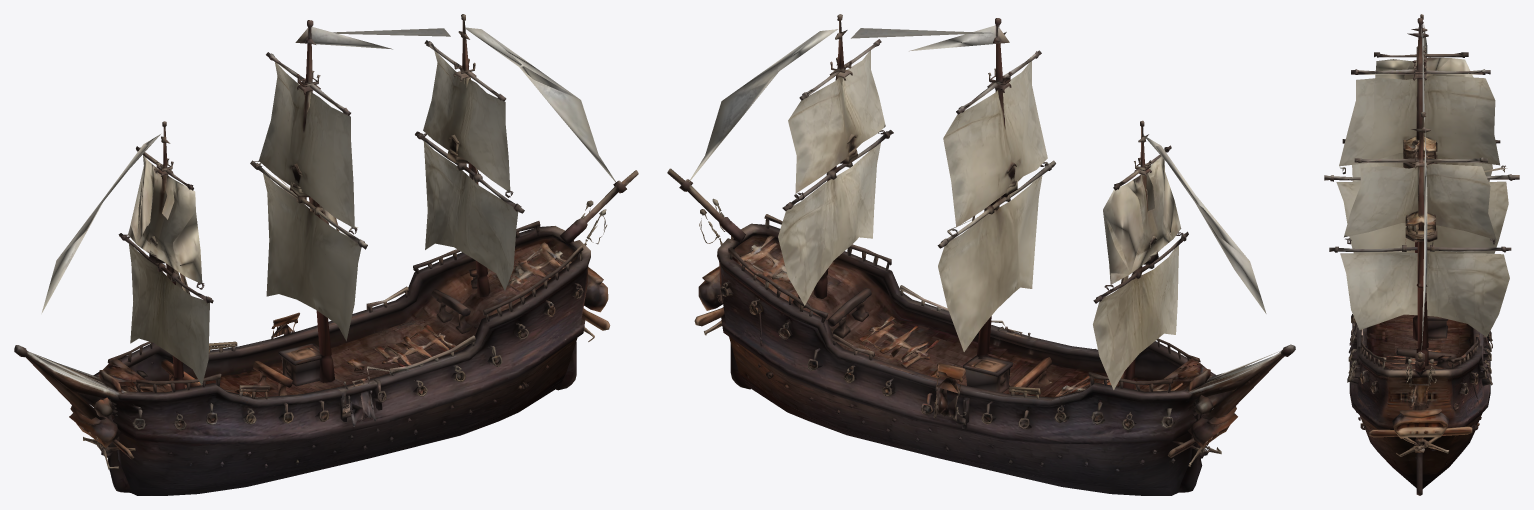
Rendered from dutch_ship.glb.
3 renders of one model, left to right at view 1: azimuth 30°, elevation 25°; view 2: azimuth 150°, elevation 25°; view 3: azimuth 270°, elevation 25°, orthographic. The views are drawn at different scales.
Parts seen in each view (by area): view 1: tripo_node_cc40e1bf-368e-4dae-93c0-1a1fe693e45e; view 2: tripo_node_cc40e1bf-368e-4dae-93c0-1a1fe693e45e; view 3: tripo_node_cc40e1bf-368e-4dae-93c0-1a1fe693e45e.
Part boxes in pixels (x1=…): tripo_node_cc40e1bf-368e-4dae-93c0-1a1fe693e45e: x1=14, y1=14, x2=638, y2=495; tripo_node_cc40e1bf-368e-4dae-93c0-1a1fe693e45e: x1=667, y1=14, x2=1295, y2=495; tripo_node_cc40e1bf-368e-4dae-93c0-1a1fe693e45e: x1=1324, y1=14, x2=1519, y2=495.
Size of the model in its own units: 0.998 by 0.6582 by 0.3145.
Materials: 1 (1 with a texture image).
